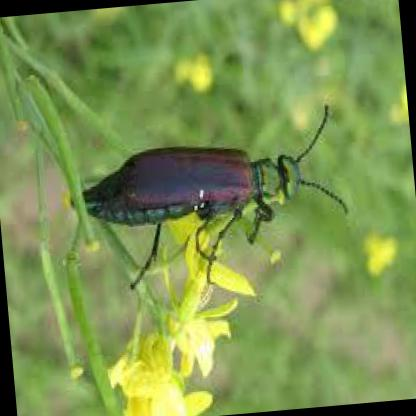blister beetle: (74, 146, 301, 228)
